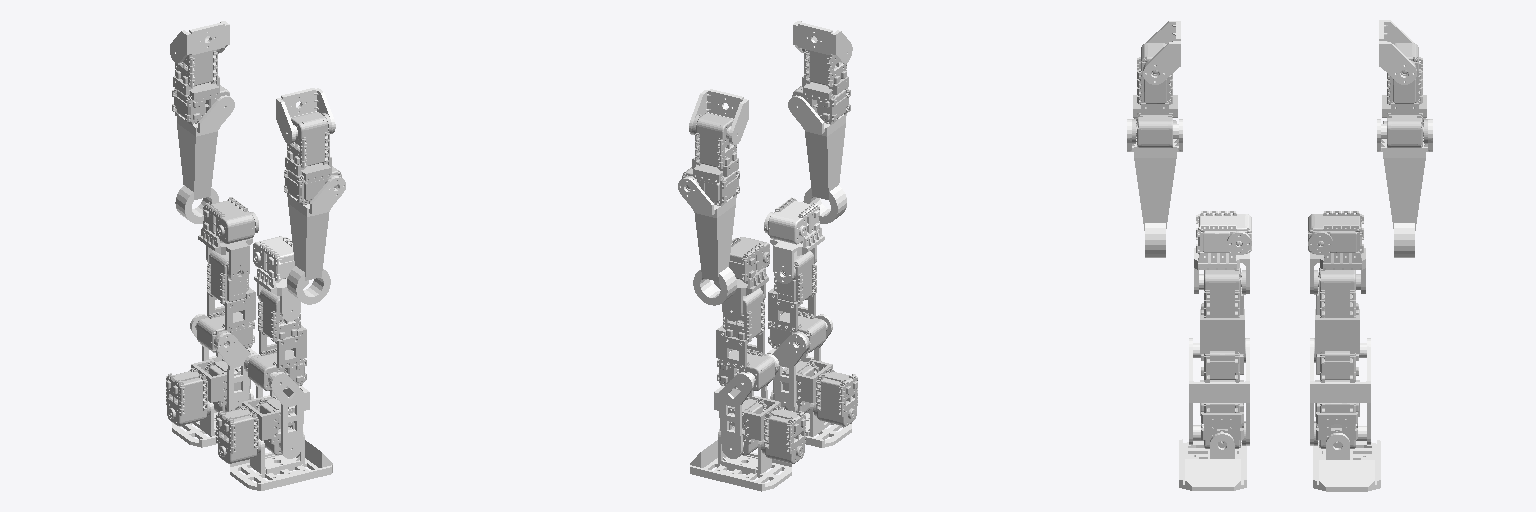
robot.urdf — adam:
<?xml version='1.0' encoding='utf-8'?>
<robot name="adam">
  <link name="base_link">
    <inertial>
      <origin xyz="0.00195020607297603 0.0015365948940603 0.0967410638415927" rpy="0 0 0" />
      <mass value="0.995206024305125" />
      <inertia ixx="0.00209366413502623" ixy="-3.44165157573017E-06" ixz="-3.76147491081991E-05" iyy="0.00104892347800008" iyz="4.39264233962694E-07" izz="0.00143772727774919" />
    </inertial>
    <visual>
      <origin xyz="0 0 0" rpy="0 0 0" />
      <geometry>
        <mesh filename="package://adam_urdf/meshes/base_link.STL" />
      </geometry>
      <material name="">
        <color rgba="1 1 1 1" />
      </material>
    </visual>
    <collision>
      <origin xyz="0 0 0" rpy="0 0 0" />
      <geometry>
        <mesh filename="package://adam_urdf/meshes/base_link.STL" />
      </geometry>
    </collision>
  </link>
  <link name="pe_quadril">
    <inertial>
      <origin xyz="-0.0141537789189758 0.0079442590908788 -0.0203546969084569" rpy="0 0 0" />
      <mass value="0.0601196297918617" />
      <inertia ixx="1.05752664612248E-05" ixy="2.77277222042103E-08" ixz="1.90980207221988E-07" iyy="1.85434270590147E-05" iyz="-1.50339397227627E-09" izz="1.6833524946486E-05" />
    </inertial>
    <visual>
      <origin xyz="0.03625008 -0.01049992 -0.02299991" rpy="-2.35619449 -1.57079113 -2.35619449" />
      <geometry>
        <mesh filename="package://adam_urdf/meshes/pe_quadril.STL" />
      </geometry>
      <material name="">
        <color rgba="0.894117647058823 0.894117647058823 0.894117647058823 1" />
      </material>
    </visual>
    <collision>
      <origin xyz="0.03625008 -0.01049992 -0.02299991" rpy="-2.35619449 -1.57079113 -2.35619449" />
      <geometry>
        <mesh filename="package://adam_urdf/meshes/pe_quadril.STL" />
      </geometry>
    </collision>
  </link>
  <joint name="pe_roll_quadril_10" type="revolute">
    <origin xyz="0.023 0.03625 -0.0105" rpy="-1.5708 0 -1.5708" />
    <parent link="base_link" />
    <child link="pe_quadril" />
    <axis xyz="0 0 1" />
    <limit lower="-2.618" upper="2.618" effort="1.5" velocity="11.9" />
  </joint>
  <link name="pe_coxa">
    <inertial>
      <origin xyz="-0.0437544713256375 0.000185181434899077 -0.0201107522449157" rpy="0 0 0" />
      <mass value="0.0968121752379244" />
      <inertia ixx="2.17184161505064E-05" ixy="2.43915536500787E-07" ixz="1.92483601194419E-07" iyy="2.15714683155095E-05" iyz="1.8947681324991E-07" izz="2.23096889825298E-05" />
    </inertial>
    <visual>
      <origin xyz="0.05790780 0.00175479 0.03045030" rpy="-1.57079265 0.00000735 -1.57079265" />
      <geometry>
        <mesh filename="package://adam_urdf/meshes/pe_coxa.STL" />
      </geometry>
      <material name="">
        <color rgba="0.894117647058823 0.894117647058823 0.894117647058823 1" />
      </material>
    </visual>
    <collision>
      <origin xyz="0.05790780 0.00175479 0.03045030" rpy="-1.57079265 0.00000735 -1.57079265" />
      <geometry>
        <mesh filename="package://adam_urdf/meshes/pe_coxa.STL" />
      </geometry>
    </collision>
  </link>
  <joint name="pe_pich_quadril_8" type="revolute">
    <origin xyz="0.0058 0.047408 -0.021245" rpy="-1.5708 0 -1.5708" />
    <parent link="pe_quadril" />
    <child link="pe_coxa" />
    <axis xyz="0 0 1" />
    <limit lower="-2.618" upper="2.618" effort="1.5" velocity="11.9" />
  </joint>
  <link name="pe_canela">
    <inertial>
      <origin xyz="-0.0155527691479751 0.0340638025249013 -0.0245106103270809" rpy="0 0 0" />
      <mass value="0.0215777608725722" />
      <inertia ixx="1.4598978170005E-05" ixy="1.0381647060631E-06" ixz="1.02719681520551E-07" iyy="3.71078393277981E-06" iyz="8.18226195330727E-08" izz="1.66754319910828E-05" />
    </inertial>
    <visual>
      <origin xyz="-0.01394569 -0.13230775 0.03045030" rpy="-1.57079265 0.00000735 -3.14159265" />
      <geometry>
        <mesh filename="package://adam_urdf/meshes/pe_canela.STL" />
      </geometry>
      <material name="">
        <color rgba="1 1 1 1" />
      </material>
    </visual>
    <collision>
      <origin xyz="-0.01394569 -0.13230775 0.03045030" rpy="-1.57079265 0.00000735 -3.14159265" />
      <geometry>
        <mesh filename="package://adam_urdf/meshes/pe_canela.STL" />
      </geometry>
    </collision>
  </link>
  <joint name="pe_picht_joelho_6" type="revolute">
    <origin xyz="-0.0744 0.0157 0" rpy="0 0 1.5708" />
    <parent link="pe_coxa" />
    <child link="pe_canela" />
    <axis xyz="0 0 1" />
    <limit lower="-2.618" upper="2.618" effort="1.5" velocity="11.9" />
  </joint>
  <link name="pe_tornozelo">
    <inertial>
      <origin xyz="-0.0134693253818237 -0.0201773771395345 -0.0206205443123456" rpy="0 0 0" />
      <mass value="0.0955442292607815" />
      <inertia ixx="1.49612051029207E-05" ixy="2.17234097066861E-07" ixz="1.80636636869058E-07" iyy="2.43984477219524E-05" iyz="2.18629887976326E-10" izz="2.25501418470081E-05" />
    </inertial>
    <visual>
      <origin xyz="-0.20754875 0.00075345 0.03045030" rpy="-1.57079265 0.00000735 1.57079265" />
      <geometry>
        <mesh filename="package://adam_urdf/meshes/pe_tornozelo.STL" />
      </geometry>
      <material name="">
        <color rgba="0.894117647058823 0.894117647058823 0.894117647058823 1" />
      </material>
    </visual>
    <collision>
      <origin xyz="-0.20754875 0.00075345 0.03045030" rpy="-1.57079265 0.00000735 1.57079265" />
      <geometry>
        <mesh filename="package://adam_urdf/meshes/pe_tornozelo.STL" />
      </geometry>
    </collision>
  </link>
  <joint name="pe_picht_tornozelo_4" type="revolute">
    <origin xyz="-0.013193 0.075241 0" rpy="0 0 1.5708" />
    <parent link="pe_canela" />
    <child link="pe_tornozelo" />
    <axis xyz="0 0 1" />
    <limit lower="-2.618" upper="2.618" effort="1.5" velocity="11.9" />
  </joint>
  <link name="pe_pe">
    <inertial>
      <origin xyz="0.026171545088176 0.00582483538972349 0.0336984569140744" rpy="0 0 0" />
      <mass value="0.039523089021379" />
      <inertia ixx="3.80242718390701E-05" ixy="-1.02266302474654E-20" ixz="1.64143868327474E-06" iyy="2.98020253932323E-05" iyz="2.4233636345842E-21" izz="1.25379381336875E-05" />
    </inertial>
    <visual>
      <origin xyz="-0.20764875 -0.05165039 0.02455327" rpy="-0.78539449 -1.57079113 0.78539816" />
      <geometry>
        <mesh filename="package://adam_urdf/meshes/pe_pe.STL" />
      </geometry>
      <material name="">
        <color rgba="1 1 1 1" />
      </material>
    </visual>
    <collision>
      <origin xyz="-0.20764875 -0.05165039 0.02455327" rpy="-0.78539449 -1.57079113 0.78539816" />
      <geometry>
        <mesh filename="package://adam_urdf/meshes/pe_pe.STL" />
      </geometry>
    </collision>
  </link>
  <joint name="pe_roll_tornozelo_2" type="revolute">
    <origin xyz="0.0001 -0.0238 -0.0212" rpy="-1.5708 0 0" />
    <parent link="pe_tornozelo" />
    <child link="pe_pe" />
    <axis xyz="0 0 1" />
    <limit lower="-2.618" upper="2.618" effort="1.5" velocity="11.9" />
  </joint>
  <link name="pd_quadril">
    <inertial>
      <origin xyz="-0.0141537789189726 -0.00790087330665539 -0.0203546969084566" rpy="0 0 0" />
      <mass value="0.0601196297918616" />
      <inertia ixx="1.05752664612248E-05" ixy="-7.10250058785484E-09" ixz="1.90980207222048E-07" iyy="1.85434270590146E-05" iyz="-1.50339397227757E-09" izz="1.6833524946486E-05" />
    </inertial>
    <visual>
      <origin xyz="0.03625008 0.01049992 -0.02299991" rpy="2.35619449 -1.57079113 2.35619449" />
      <geometry>
        <mesh filename="package://adam_urdf/meshes/pd_quadril.STL" />
      </geometry>
      <material name="">
        <color rgba="1 1 1 1" />
      </material>
    </visual>
    <collision>
      <origin xyz="0.03625008 0.01049992 -0.02299991" rpy="2.35619449 -1.57079113 2.35619449" />
      <geometry>
        <mesh filename="package://adam_urdf/meshes/pd_quadril.STL" />
      </geometry>
    </collision>
  </link>
  <joint name="pd_roll_quadril_9" type="revolute">
    <origin xyz="0.023 -0.03625 -0.0105" rpy="1.5708 0 1.5708" />
    <parent link="base_link" />
    <child link="pd_quadril" />
    <axis xyz="0 0 1" />
    <limit lower="-2.618" upper="2.618" effort="1.5" velocity="11.9" />
  </joint>
  <link name="pd_coxa">
    <inertial>
      <origin xyz="-0.0437275290812852 -0.000158239190416812 -0.0201107522449149" rpy="0 0 0" />
      <mass value="0.0968121752379245" />
      <inertia ixx="2.17184161505041E-05" ixy="-2.43915536525012E-07" ixz="1.89476813248759E-07" iyy="2.15714683155118E-05" iyz="-1.92483601194113E-07" izz="2.23096889825298E-05" />
    </inertial>
    <visual>
      <origin xyz="0.05790780 -0.00175479 0.03045030" rpy="1.57079265 0.00000735 1.57079265" />
      <geometry>
        <mesh filename="package://adam_urdf/meshes/pd_coxa.STL" />
      </geometry>
      <material name="">
        <color rgba="0.894117647058823 0.894117647058823 0.894117647058823 1" />
      </material>
    </visual>
    <collision>
      <origin xyz="0.05790780 -0.00175479 0.03045030" rpy="1.57079265 0.00000735 1.57079265" />
      <geometry>
        <mesh filename="package://adam_urdf/meshes/pd_coxa.STL" />
      </geometry>
    </collision>
  </link>
  <joint name="pd_picht_quadril_7" type="revolute">
    <origin xyz="0.0058 -0.047408 -0.021245" rpy="1.5708 0 1.5708" />
    <parent link="pd_quadril" />
    <child link="pd_coxa" />
    <axis xyz="0 0 1" />
    <limit lower="-2.618" upper="2.618" effort="1.5" velocity="11.9" />
  </joint>
  <link name="pd_canela">
    <inertial>
      <origin xyz="-0.0155527691480307 -0.0340638025249009 -0.0245106103270773" rpy="0 0 0" />
      <mass value="0.0215777608725698" />
      <inertia ixx="1.45989781700028E-05" ixy="-1.03816470606297E-06" ixz="1.02719681520544E-07" iyy="3.7107839327796E-06" iyz="-8.18226195330988E-08" izz="1.66754319910805E-05" />
    </inertial>
    <visual>
      <origin xyz="-0.01394569 0.13230775 0.03045030" rpy="1.57079265 0.00000735 3.14159265" />
      <geometry>
        <mesh filename="package://adam_urdf/meshes/pd_canela.STL" />
      </geometry>
      <material name="">
        <color rgba="1 1 1 1" />
      </material>
    </visual>
    <collision>
      <origin xyz="-0.01394569 0.13230775 0.03045030" rpy="1.57079265 0.00000735 3.14159265" />
      <geometry>
        <mesh filename="package://adam_urdf/meshes/pd_canela.STL" />
      </geometry>
    </collision>
  </link>
  <joint name="pd_picht_joelho_5" type="revolute">
    <origin xyz="-0.0744 -0.0157 0" rpy="0 0 -1.5708" />
    <parent link="pd_coxa" />
    <child link="pd_canela" />
    <axis xyz="0 0 1" />
    <limit lower="-2.618" upper="2.618" effort="1.5" velocity="11.9" />
  </joint>
  <link name="pd_tornozelo">
    <inertial>
      <origin xyz="-0.0134718393089086 0.0206532046271628 -0.0205484764347007" rpy="0 0 0" />
      <mass value="0.0955442292607816" />
      <inertia ixx="1.49611784981457E-05" ixy="-1.89283747297888E-07" ixz="2.01323777574969E-07" iyy="2.43984743267275E-05" iyz="2.18629887978214E-10" izz="2.25501418470081E-05" />
    </inertial>
    <visual>
      <origin xyz="-0.20754875 -0.00075345 0.03045030" rpy="1.57079265 0.00000735 -1.57079265" />
      <geometry>
        <mesh filename="package://adam_urdf/meshes/pd_tornozelo.STL" />
      </geometry>
      <material name="">
        <color rgba="0.894117647058823 0.894117647058823 0.894117647058823 1" />
      </material>
    </visual>
    <collision>
      <origin xyz="-0.20754875 -0.00075345 0.03045030" rpy="1.57079265 0.00000735 -1.57079265" />
      <geometry>
        <mesh filename="package://adam_urdf/meshes/pd_tornozelo.STL" />
      </geometry>
    </collision>
  </link>
  <joint name="pd_picht_tornozelo_3" type="revolute">
    <origin xyz="-0.013193 -0.075241 0" rpy="0 0 -1.5708" />
    <parent link="pd_canela" />
    <child link="pd_tornozelo" />
    <axis xyz="0 0 1" />
    <limit lower="-2.618" upper="2.618" effort="1.5" velocity="11.9" />
  </joint>
  <link name="pd_pe">
    <inertial>
      <origin xyz="0.026171545088176 -0.00582483538972349 0.0336984569140743" rpy="0 0 0" />
      <mass value="0.039523089021379" />
      <inertia ixx="3.80242718390703E-05" ixy="-1.83320846796506E-20" ixz="1.64143868327473E-06" iyy="2.98020253932324E-05" iyz="1.6708963812625E-20" izz="1.25379381336875E-05" />
    </inertial>
    <visual>
      <origin xyz="-0.20764875 0.05145040 0.02545327" rpy="0.78539449 -1.57079113 -0.78539816" />
      <geometry>
        <mesh filename="package://adam_urdf/meshes/pd_pe.STL" />
      </geometry>
      <material name="">
        <color rgba="1 1 1 1" />
      </material>
    </visual>
    <collision>
      <origin xyz="-0.20764875 0.05145040 0.02545327" rpy="0.78539449 -1.57079113 -0.78539816" />
      <geometry>
        <mesh filename="package://adam_urdf/meshes/pd_pe.STL" />
      </geometry>
    </collision>
  </link>
  <joint name="pd_roll_tornozelo_1" type="revolute">
    <origin xyz="0.0001 0.0247 -0.021" rpy="1.5708 0 0" />
    <parent link="pd_tornozelo" />
    <child link="pd_pe" />
    <axis xyz="0 0 1" />
    <limit lower="-2.618" upper="2.618" effort="1.5" velocity="11.9" />
  </joint>
  <link name="be_ombro">
    <inertial>
      <origin xyz="-0.00591470228756696 -0.000974403883866788 0.0105863111205495" rpy="0 0 0" />
      <mass value="0.0114060167943632" />
      <inertia ixx="5.40994393258749E-06" ixy="-1.34316677964226E-07" ixz="7.12790037989189E-07" iyy="2.25934107800527E-06" iyz="1.37966276921573E-07" izz="5.57806617636153E-06" />
    </inertial>
    <visual>
      <origin xyz="-0.17620805 0.00549938 -0.08799998" rpy="1.57079647 -0.00000367 1.53300000" />
      <geometry>
        <mesh filename="package://adam_urdf/meshes/be_ombro.STL" />
      </geometry>
      <material name="">
        <color rgba="1 1 1 1" />
      </material>
    </visual>
    <collision>
      <origin xyz="-0.17620805 0.00549938 -0.08799998" rpy="1.57079647 -0.00000367 1.53300000" />
      <geometry>
        <mesh filename="package://adam_urdf/meshes/be_ombro.STL" />
      </geometry>
    </collision>
  </link>
  <joint name="be_picht_ombro_12" type="revolute">
    <origin xyz="0.0011633 0.088 0.17629" rpy="-1.5708 -1.533 0" />
    <parent link="base_link" />
    <child link="be_ombro" />
    <axis xyz="0 0 1" />
    <limit lower="-2.618" upper="2.618" effort="1.5" velocity="11.9" />
  </joint>
  <link name="be_biceps">
    <inertial>
      <origin xyz="-0.036793823856908 -0.000442882193545352 -0.0177975126743866" rpy="0 0 0" />
      <mass value="0.0942481696340367" />
      <inertia ixx="2.02881993989639E-05" ixy="8.80921683799235E-09" ixz="1.8047650681103E-07" iyy="2.28390718448768E-05" iyz="-1.9248360119428E-07" izz="1.76657308449474E-05" />
    </inertial>
    <visual>
      <origin xyz="-0.15828976 0.11100006 -0.02216938" rpy="-0.19251951 -1.57075794 -2.94907300" />
      <geometry>
        <mesh filename="package://adam_urdf/meshes/be_biceps.STL" />
      </geometry>
      <material name="">
        <color rgba="0.894117647058823 0.894117647058823 0.894117647058823 1" />
      </material>
    </visual>
    <collision>
      <origin xyz="-0.15828976 0.11100006 -0.02216938" rpy="-0.19251951 -1.57075794 -2.94907300" />
      <geometry>
        <mesh filename="package://adam_urdf/meshes/be_biceps.STL" />
      </geometry>
    </collision>
  </link>
  <joint name="be_roll_ombro_14" type="revolute">
    <origin xyz="-0.017193 0.021666 0.023" rpy="-1.5708 0 -0.037834" />
    <parent link="be_ombro" />
    <child link="be_biceps" />
    <axis xyz="0 0 1" />
    <limit lower="-2.618" upper="2.618" effort="1.5" velocity="11.9" />
  </joint>
  <link name="be_antibraco">
    <inertial>
      <origin xyz="-0.0171454293155524 0.0590518683884194 -0.0211407829806558" rpy="0 0 0" />
      <mass value="0.0789439743494325" />
      <inertia ixx="0.000102732451603257" ixy="3.85915021672152E-06" ixz="1.9055441753992E-07" iyy="1.52990594639976E-05" iyz="-6.56302912725517E-07" izz="9.95934733941508E-05" />
    </inertial>
    <visual>
      <origin xyz="-0.01936902 0.09838934 -0.13200042" rpy="1.57079279 -0.00000734 0.00003400" />
      <geometry>
        <mesh filename="package://adam_urdf/meshes/be_antibraco.STL" />
      </geometry>
      <material name="">
        <color rgba="1 1 1 1" />
      </material>
    </visual>
    <collision>
      <origin xyz="-0.01936902 0.09838934 -0.13200042" rpy="1.57079279 -0.00000734 0.00003400" />
      <geometry>
        <mesh filename="package://adam_urdf/meshes/be_antibraco.STL" />
      </geometry>
    </collision>
  </link>
  <joint name="be_picht_cotovelo_16" type="revolute">
    <origin xyz="-0.0599 -0.021 -0.0028" rpy="1.5708 -1.5708 0" />
    <parent link="be_biceps" />
    <child link="be_antibraco" />
    <axis xyz="0 0 1" />
    <limit lower="-2.618" upper="2.618" effort="1.5" velocity="11.9" />
  </joint>
  <link name="bd_ombro">
    <inertial>
      <origin xyz="-0.00594732563508293 0.000749974802561257 0.0105863121858034" rpy="0 0 0" />
      <mass value="0.011406014540264" />
      <inertia ixx="5.39528149045346E-06" ixy="2.53019657155532E-07" ixz="7.174986475701E-07" iyy="2.27400259138332E-06" iyz="-1.10906311459216E-07" izz="5.57806541951859E-06" />
    </inertial>
    <visual>
      <origin xyz="-0.17620805 -0.00549938 -0.08799998" rpy="-1.57079647 -0.00000367 -1.53300000" />
      <geometry>
        <mesh filename="package://adam_urdf/meshes/bd_ombro.STL" />
      </geometry>
      <material name="">
        <color rgba="1 1 1 1" />
      </material>
    </visual>
    <collision>
      <origin xyz="-0.17620805 -0.00549938 -0.08799998" rpy="-1.57079647 -0.00000367 -1.53300000" />
      <geometry>
        <mesh filename="package://adam_urdf/meshes/bd_ombro.STL" />
      </geometry>
    </collision>
  </link>
  <joint name="bd_picht_ombro_11" type="revolute">
    <origin xyz="0.0011633 -0.088 0.17629" rpy="1.5708 -1.533 0" />
    <parent link="base_link" />
    <child link="bd_ombro" />
    <axis xyz="0 0 1" />
    <limit lower="-2.618" upper="2.618" effort="1.5" velocity="11.9" />
  </joint>
  <link name="bd_biceps">
    <inertial>
      <origin xyz="-0.0367661486532937 0.000470557397159774 -0.0180691464227351" rpy="0 0 0" />
      <mass value="0.0942481696340366" />
      <inertia ixx="2.02881993989639E-05" ixy="8.80921683807009E-09" ixz="2.01483907633003E-07" iyy="2.28390718448768E-05" iyz="1.89476813249758E-07" izz="1.76657308449474E-05" />
    </inertial>
    <visual>
      <origin xyz="-0.15828976 -0.11100006 -0.02216938" rpy="0.19251951 -1.57075794 2.94907300" />
      <geometry>
        <mesh filename="package://adam_urdf/meshes/bd_biceps.STL" />
      </geometry>
      <material name="">
        <color rgba="0.894117647058823 0.894117647058823 0.894117647058823 1" />
      </material>
    </visual>
    <collision>
      <origin xyz="-0.15828976 -0.11100006 -0.02216938" rpy="0.19251951 -1.57075794 2.94907300" />
      <geometry>
        <mesh filename="package://adam_urdf/meshes/bd_biceps.STL" />
      </geometry>
    </collision>
  </link>
  <joint name="bd_roll_ombro_13" type="revolute">
    <origin xyz="-0.017193 -0.021666 0.023" rpy="1.5708 0 0.037834" />
    <parent link="bd_ombro" />
    <child link="bd_biceps" />
    <axis xyz="0 0 1" />
    <limit lower="-2.618" upper="2.618" effort="1.5" velocity="11.9" />
  </joint>
  <link name="bd_antibraco">
    <inertial>
      <origin xyz="-0.0171277804535932 -0.0590518901995056 -0.0211407837221133" rpy="0 0 0" />
      <mass value="0.0789440281616455" />
      <inertia ixx="0.000102732517538214" ixy="-3.84562112918514E-06" ixz="1.90358865799656E-07" iyy="1.5296720979341E-05" iyz="6.56305147998297E-07" izz="9.95911961155254E-05" />
    </inertial>
    <visual>
      <origin xyz="-0.01936974 -0.09839022 -0.13199967" rpy="-1.57080049 -0.00000734 -0.00004135" />
      <geometry>
        <mesh filename="package://adam_urdf/meshes/bd_antibraco.STL" />
      </geometry>
      <material name="">
        <color rgba="1 1 1 1" />
      </material>
    </visual>
    <collision>
      <origin xyz="-0.01936974 -0.09839022 -0.13199967" rpy="-1.57080049 -0.00000734 -0.00004135" />
      <geometry>
        <mesh filename="package://adam_urdf/meshes/bd_antibraco.STL" />
      </geometry>
    </collision>
  </link>
  <joint name="bd_picht_cotovelo_15" type="revolute">
    <origin xyz="-0.0599 0.021 -0.0028" rpy="1.5708 -1.5708 3.141593" />
    <parent link="bd_biceps" />
    <child link="bd_antibraco" />
    <axis xyz="0 0 1" />
    <limit lower="-2.618" upper="2.618" effort="1.5" velocity="11.9" />
  </joint>
</robot>

--- Facts derived from the render (not from the file) ---
3 views of the same robot in one strip: view 1: azimuth 30°, elevation 25°; view 2: azimuth 150°, elevation 25°; view 3: azimuth 270°, elevation 25° (orthographic).
Robot: adam — 17 links, 16 joints (16 revolute); root link base_link; default pose: all joints at 0.
Links seen in each view (by area): view 1: bd_antibraco, be_antibraco, pd_coxa, pe_coxa, bd_biceps, pd_tornozelo, pe_tornozelo, pe_quadril, pd_pe, be_biceps, pd_quadril, pd_canela (+4 smaller); view 2: be_antibraco, bd_antibraco, pe_coxa, pd_coxa, be_biceps, pe_tornozelo, pd_tornozelo, pd_quadril, pe_pe, bd_biceps, pe_quadril, pe_canela (+4 smaller); view 3: pe_coxa, pd_coxa, be_antibraco, bd_antibraco, pe_quadril, pd_quadril, pe_pe, pd_pe, bd_biceps, be_biceps, pe_canela, pd_canela (+4 smaller).
Link boxes in pixels (bbox=[...]): bd_antibraco: bbox=[287, 176, 345, 304]; be_antibraco: bbox=[175, 95, 234, 223]; pd_coxa: bbox=[246, 287, 306, 390]; pe_coxa: bbox=[197, 250, 255, 352]; bd_biceps: bbox=[284, 112, 341, 205]; pd_tornozelo: bbox=[216, 396, 294, 463]; pe_tornozelo: bbox=[166, 359, 250, 425]; pe_quadril: bbox=[198, 197, 258, 283]; pd_pe: bbox=[230, 430, 332, 490]; be_biceps: bbox=[172, 36, 229, 124]; pd_quadril: bbox=[253, 236, 308, 320]; pd_canela: bbox=[244, 353, 309, 458]; be_antibraco: bbox=[678, 177, 736, 305]; bd_antibraco: bbox=[788, 95, 846, 223]; pe_coxa: bbox=[716, 288, 777, 390]; pd_coxa: bbox=[768, 251, 825, 353]; be_biceps: bbox=[682, 113, 739, 206]; pe_tornozelo: bbox=[728, 397, 805, 463]; pd_tornozelo: bbox=[773, 359, 857, 426]; pd_quadril: bbox=[764, 197, 824, 283]; pe_pe: bbox=[690, 429, 791, 491]; bd_biceps: bbox=[792, 36, 850, 124]; pe_quadril: bbox=[714, 237, 769, 321]; pe_canela: bbox=[714, 354, 779, 458]; pe_coxa: bbox=[1314, 268, 1359, 382]; pd_coxa: bbox=[1200, 268, 1245, 382]; be_antibraco: bbox=[1377, 119, 1432, 257]; bd_antibraco: bbox=[1127, 119, 1182, 257]; pe_quadril: bbox=[1308, 211, 1365, 293]; pd_quadril: bbox=[1194, 211, 1251, 293]; pe_pe: bbox=[1313, 433, 1380, 491]; pd_pe: bbox=[1179, 432, 1246, 490]; bd_biceps: bbox=[1132, 43, 1177, 147]; be_biceps: bbox=[1382, 43, 1427, 147]; pe_canela: bbox=[1310, 338, 1370, 445]; pd_canela: bbox=[1189, 338, 1249, 445].
Bounding box of the posed robot: 0.1144 × 0.272 × 0.4309 m (x, y, z).
16 mesh visuals loaded from 17 distinct referenced files (16 binary STL); not drawn: 1 (reference not matched to a file when rendering).
